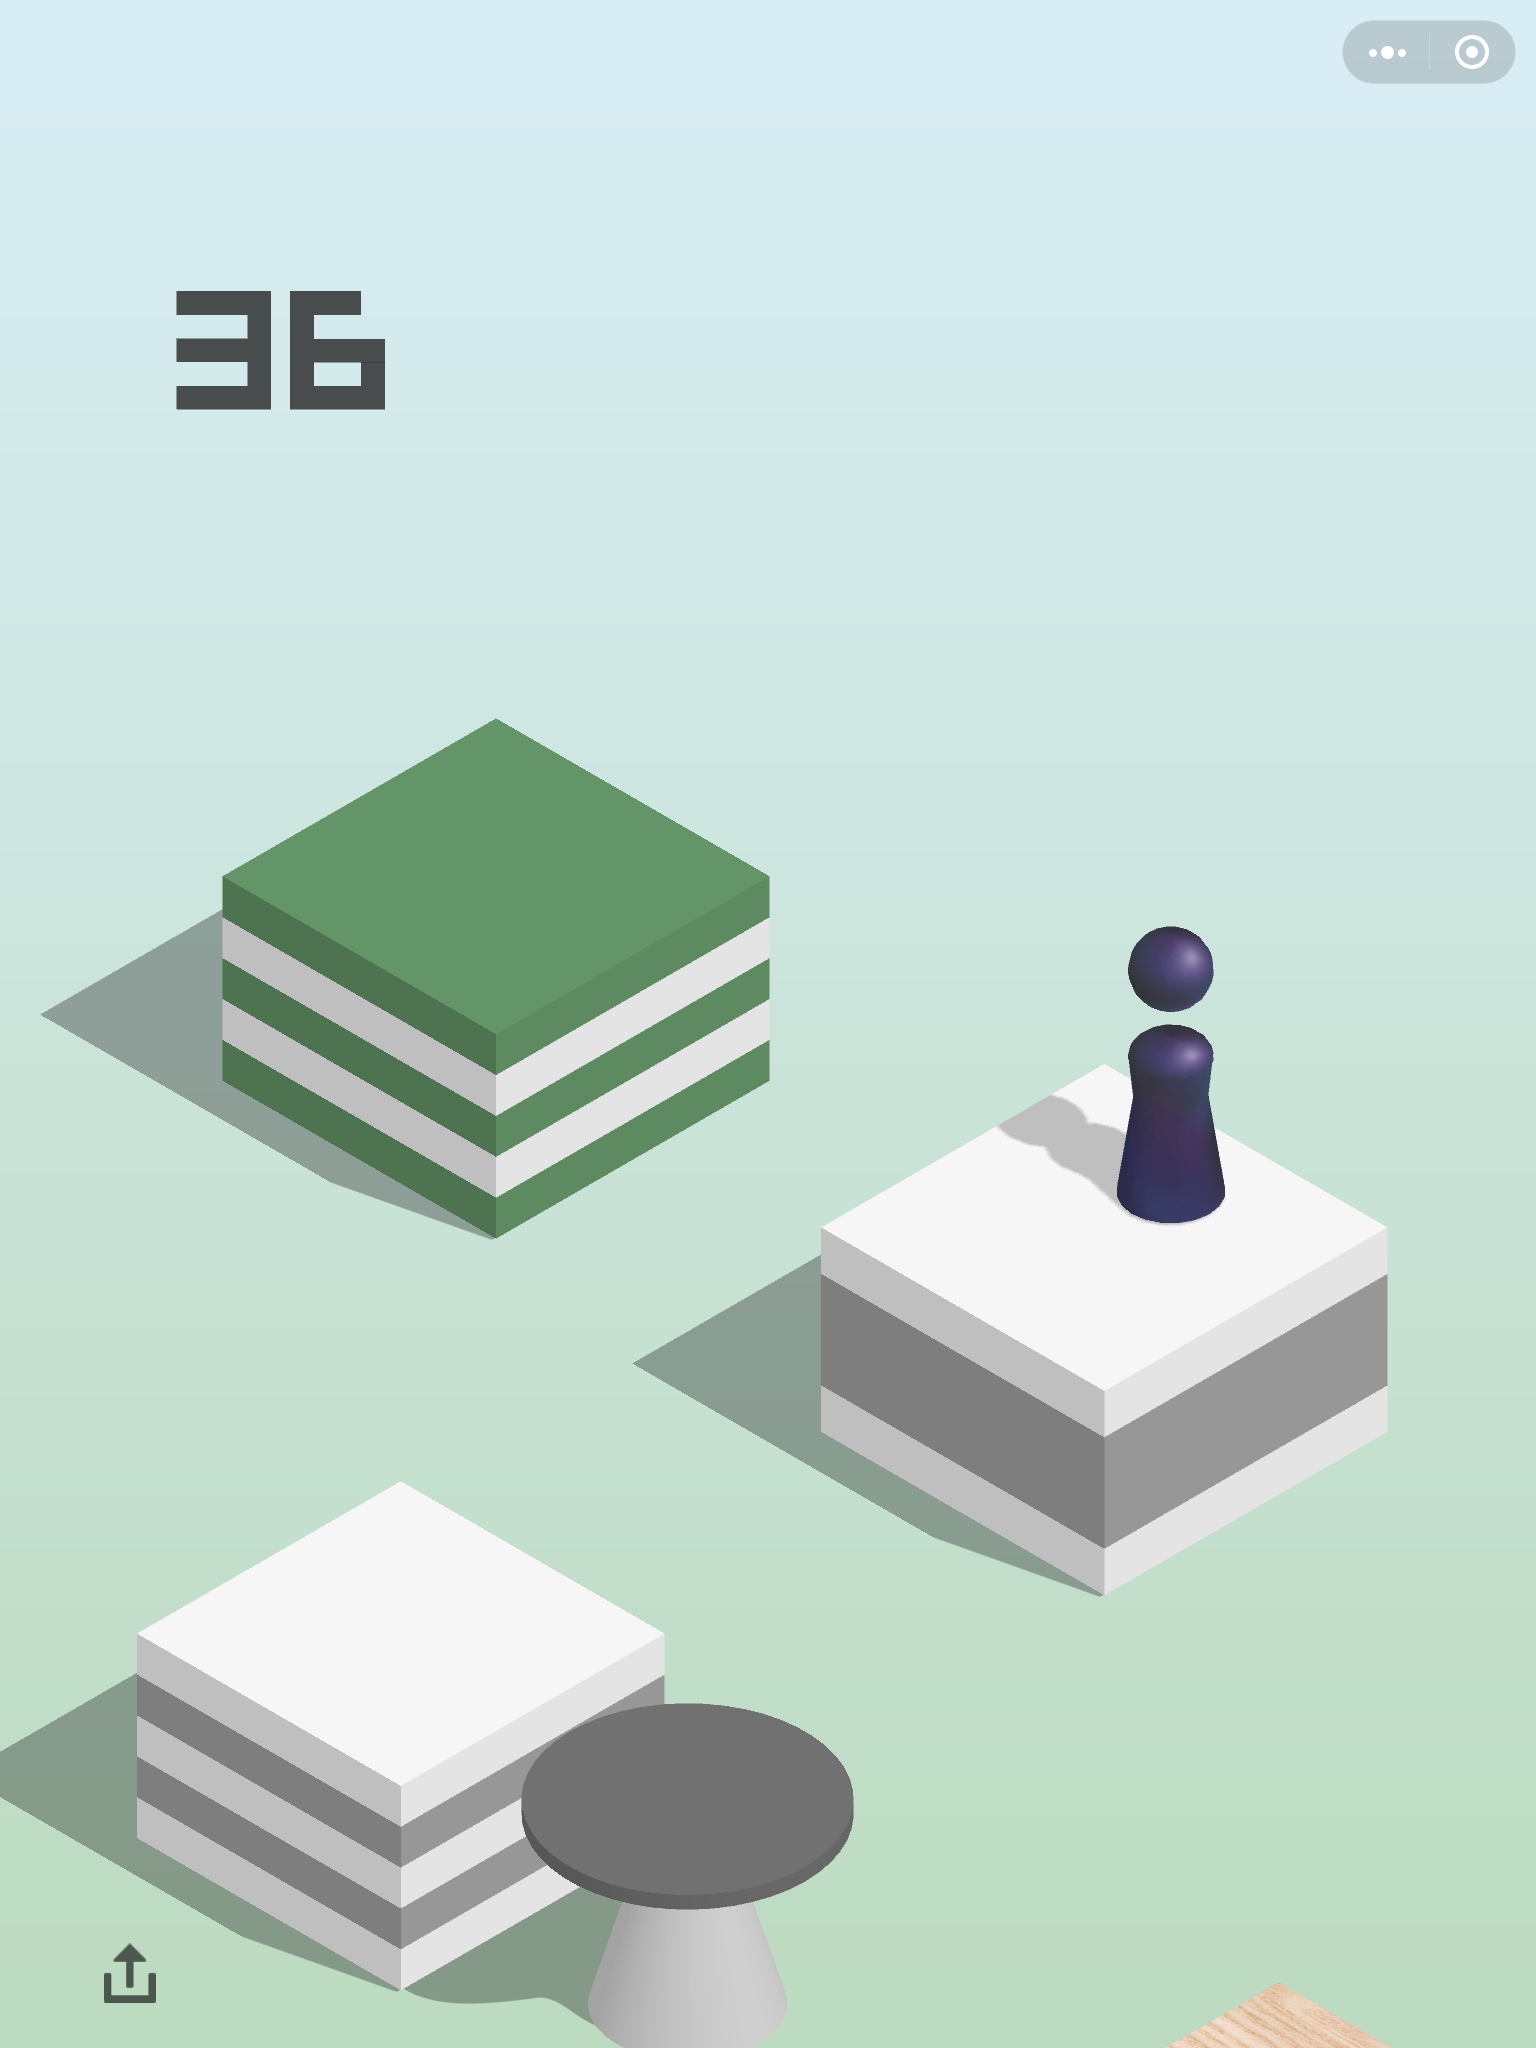c: (518, 1696, 862, 2048)
f: (815, 1056, 1396, 1600), (216, 711, 779, 1238), (127, 1477, 673, 1995)
r: (1112, 919, 1233, 1232)
